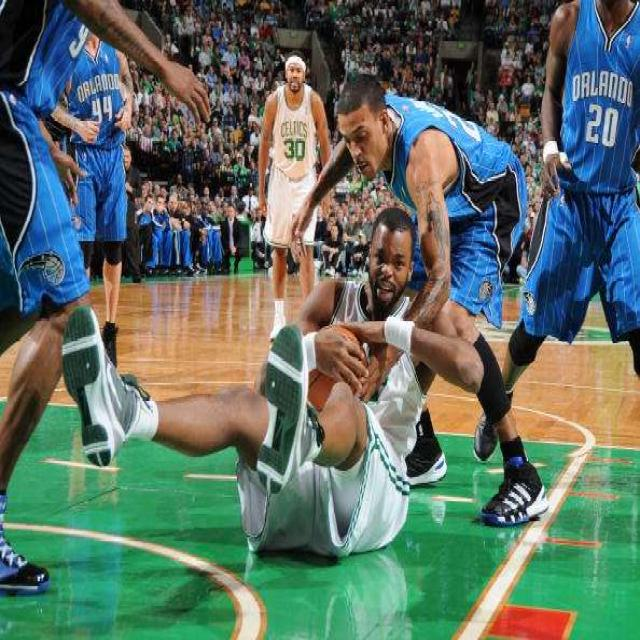10-: (2, 0, 639, 583)
down: (59, 190, 482, 558)
